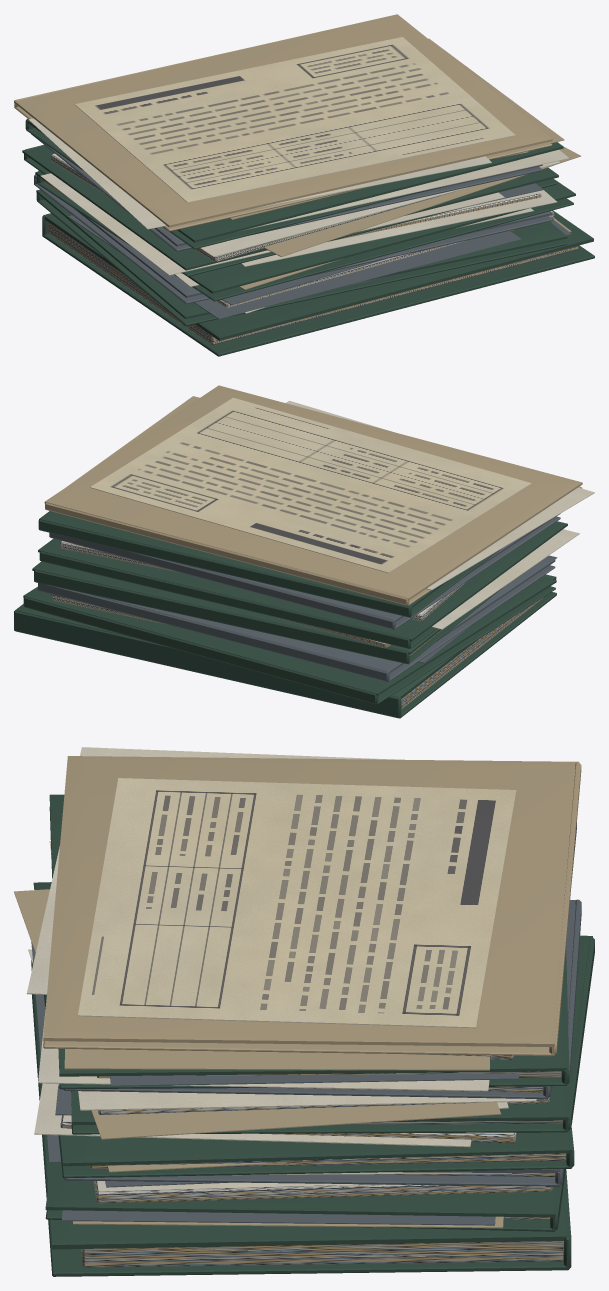
File: SM_FileStack.fbx
3 views of the same model, one above another, from view 1: azimuth 30°, elevation 25°; view 2: azimuth 150°, elevation 25°; view 3: azimuth 270°, elevation 25° (orthographic). The views are drawn at different scales.
Visible parts, largest first — view 1: SM_FileStack; view 2: SM_FileStack; view 3: SM_FileStack.
Part boxes in pixels (x1,y1,x2,y2): SM_FileStack: (14,14,594,356); SM_FileStack: (14,385,594,718); SM_FileStack: (14,747,594,1276).
Size of the model in its own units: 57.4 by 16.8 by 42.5.
